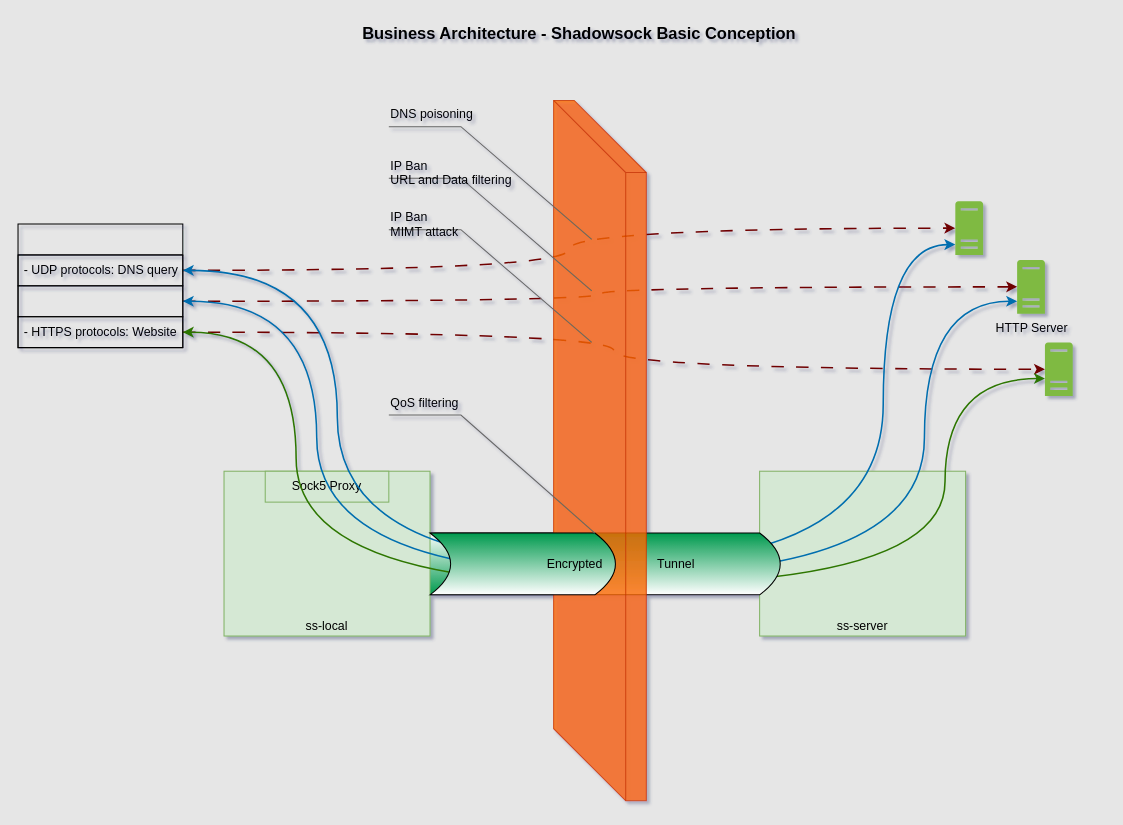
Image size: 1123x825. Some labels were removed from this diagram. The shapes that lost their labels are listed below. From the top down, each one's box as (x1, y1, x2, y2) in pixels, then its label:
(955, 201, 983, 254): DNS Server
(17, 223, 183, 348): Network Traffic
(17, 285, 183, 317): - HTTP protocols: Website
(1044, 342, 1072, 396): HTTPS Server
(553, 99, 646, 801): Firewall
